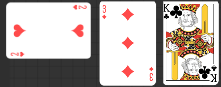2H: (72, 4, 88, 11), (10, 51, 26, 58)
3D: (148, 66, 155, 83)
